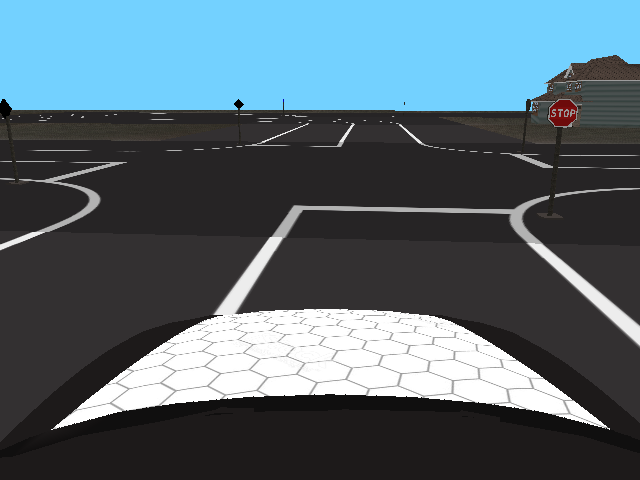stop: (548, 98, 579, 128)
